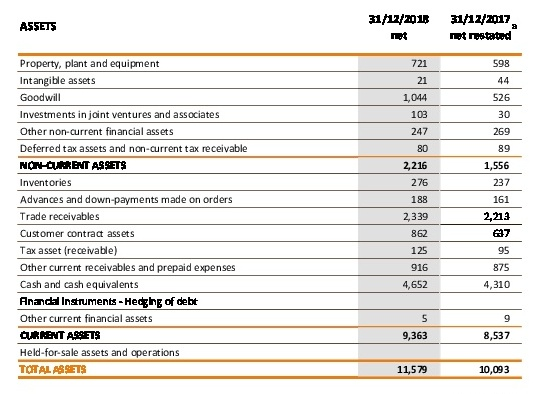table: (0, 0, 534, 394)
